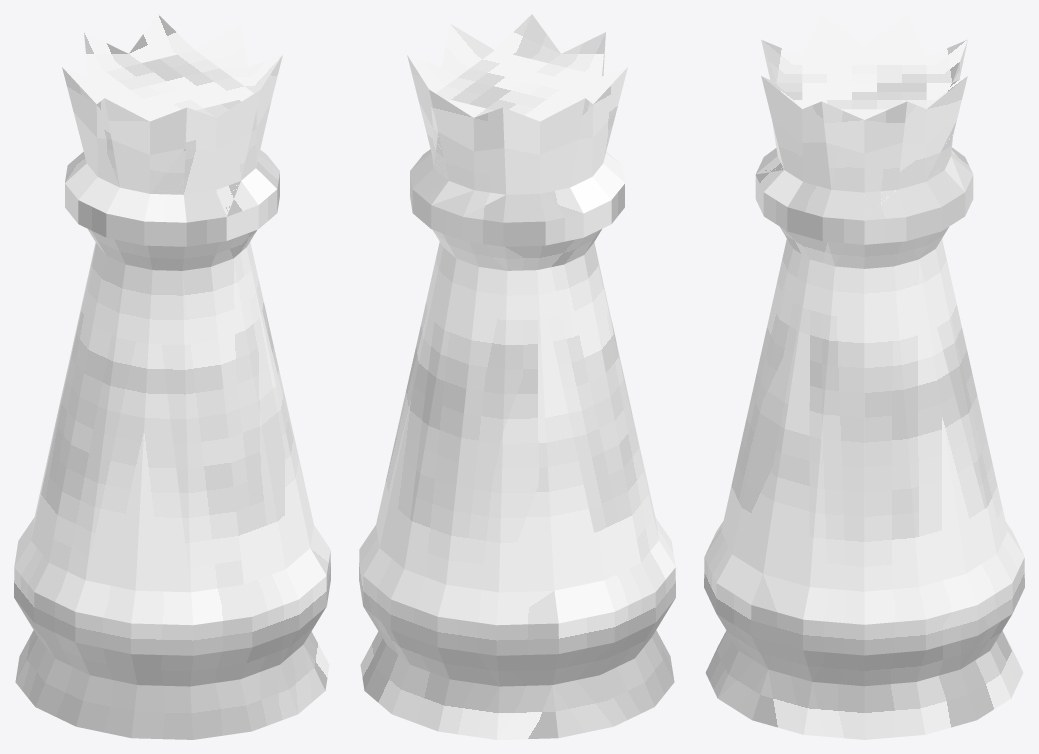
File: chess.gltf
The picture shows the model from 3 angles, left to right: view 1: azimuth 30°, elevation 25°; view 2: azimuth 150°, elevation 25°; view 3: azimuth 270°, elevation 25°; orthographic projection.
Visible parts, largest first — view 1: Cylinder; view 2: Cylinder; view 3: Cylinder.
Part boxes in pixels (bbox=[...]): Cylinder: bbox=[14, 14, 330, 739]; Cylinder: bbox=[359, 14, 675, 739]; Cylinder: bbox=[704, 14, 1024, 739].
Size of the model in its own units: 2.02 by 4.27 by 2.02.
Materials: 1 (1 with a texture image).
